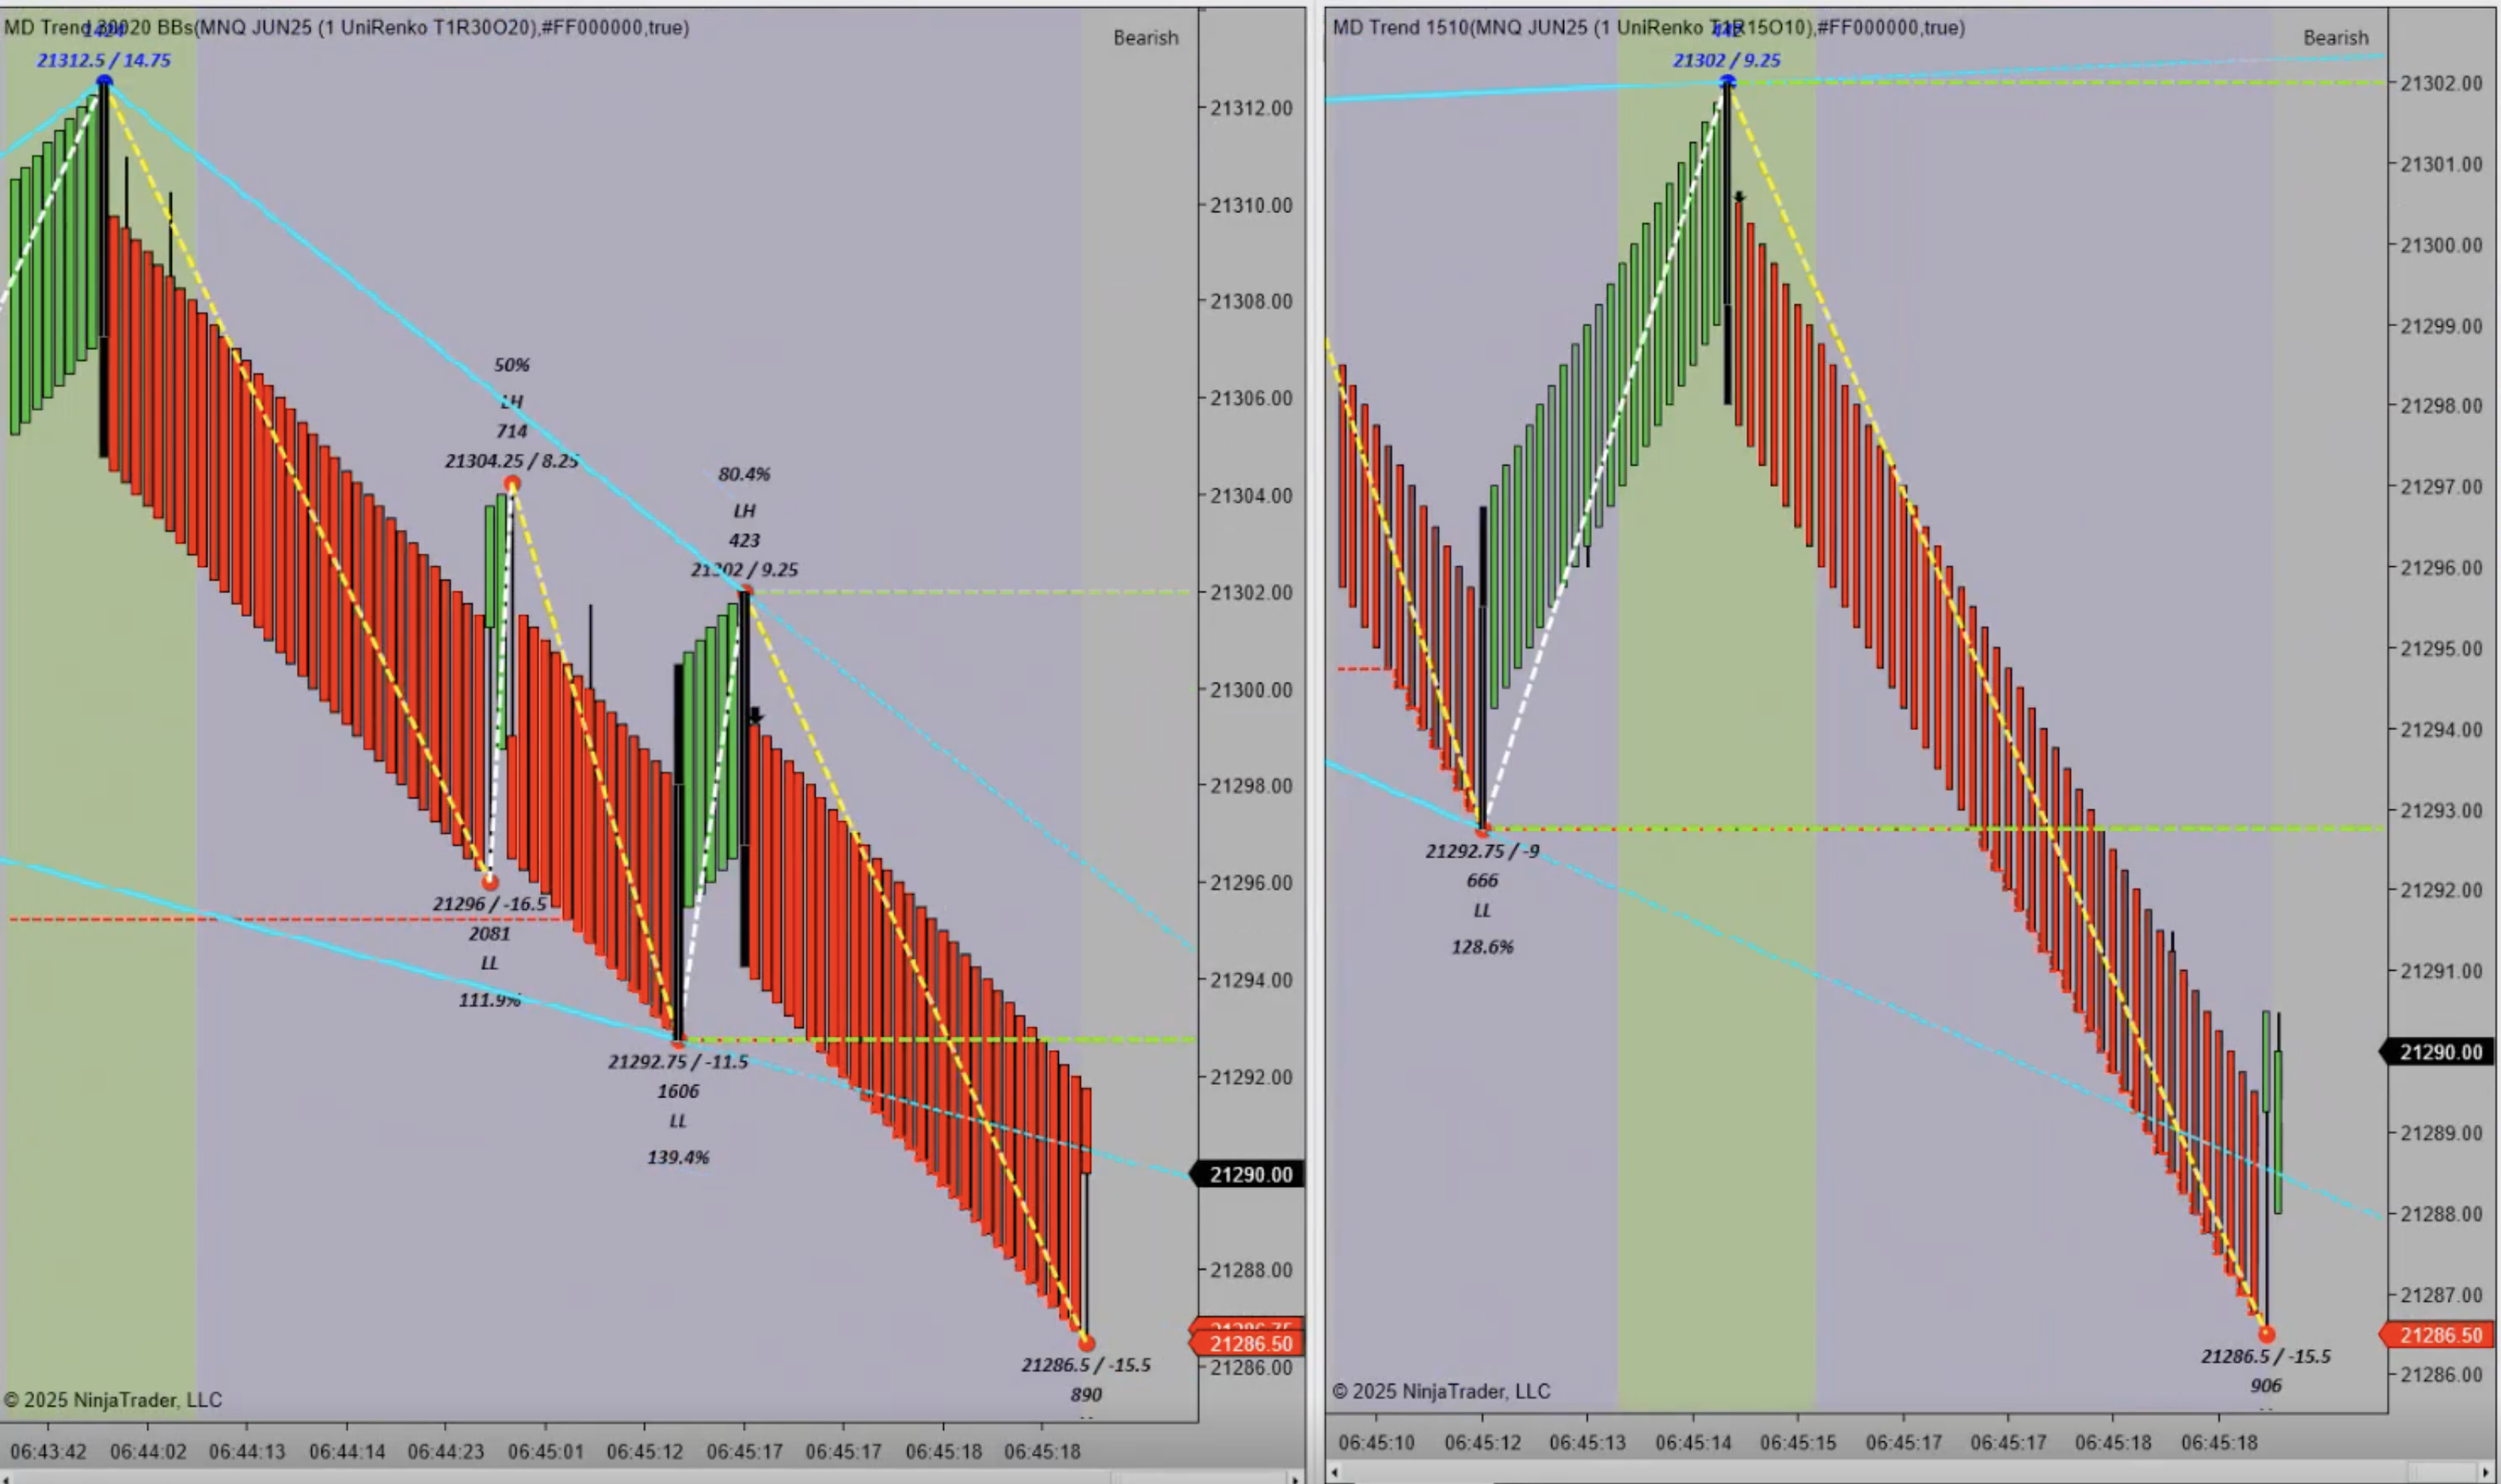candle: (668, 663, 687, 1048), (740, 588, 756, 977), (1720, 78, 1738, 406), (99, 79, 113, 468), (1477, 500, 1489, 834)
